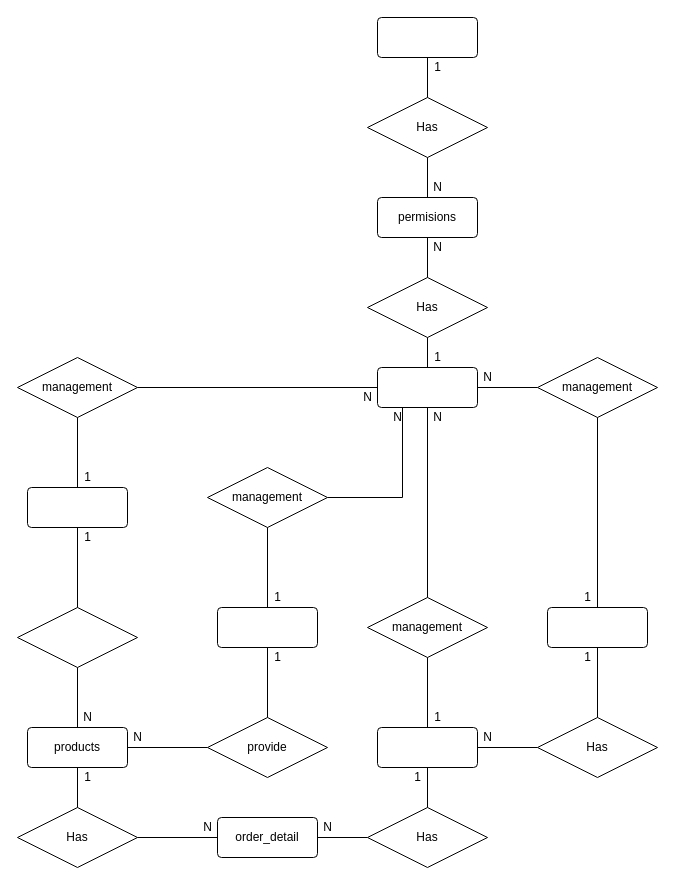
Some shapes in this 675 by 885 pixel diagram are drawn without their labels. Here are the shapes that lost their labels. From the top down, the centre of each, then its label:
At point (427, 37): "admin".
At point (427, 387): "roles".
At point (77, 507): "categories".
At point (77, 637): "classify".
At point (267, 627): "producer".
At point (597, 627): "guests".
At point (427, 747): "orders".
